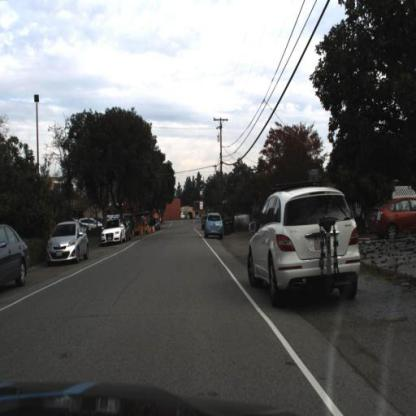car: (245, 171, 366, 311), (44, 220, 92, 269), (368, 197, 416, 241), (1, 222, 30, 294), (45, 223, 94, 264), (100, 219, 131, 246), (202, 211, 227, 238), (100, 220, 122, 245), (124, 217, 135, 241)
